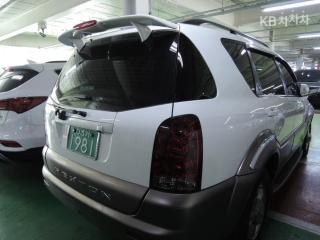0: (76, 127, 81, 136)
1: (88, 139, 94, 156), (68, 135, 74, 149)
3: (80, 128, 85, 136)
8: (81, 138, 88, 154)
9: (74, 136, 81, 152)
거: (84, 129, 91, 139)
